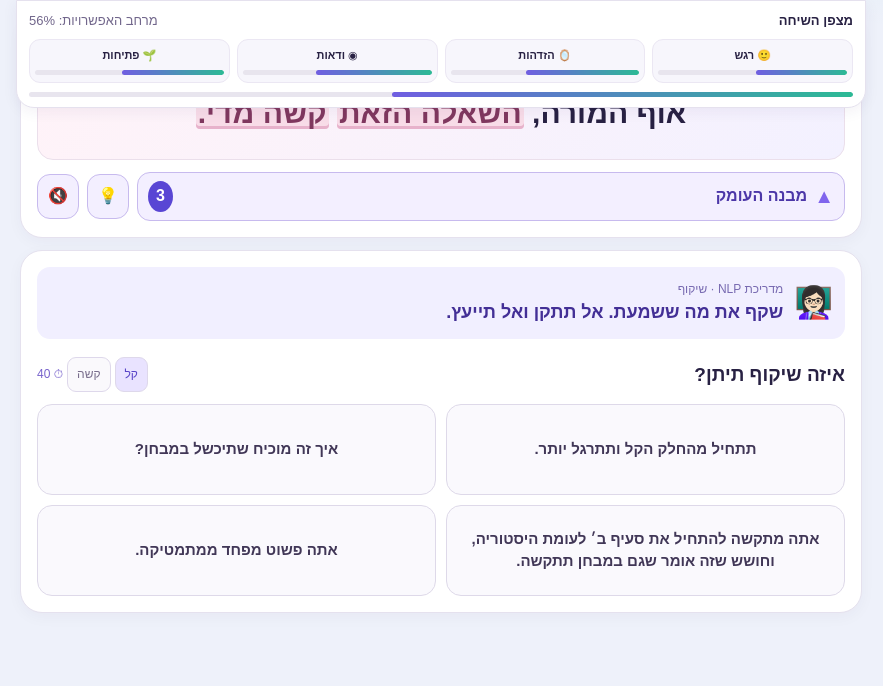
Test: GuidedMetaGym › records one completed session and offers onward links on finish
Earlier steps of the test are not shown.
Later steps or results of the test are not shown.
(page scrolled)
Step 1. Click the button "אתה מתקשה להתחיל את סעיף ב׳ לעומת היסטוריה" → (646, 550), box [446, 505, 845, 596]
(page scrolled)
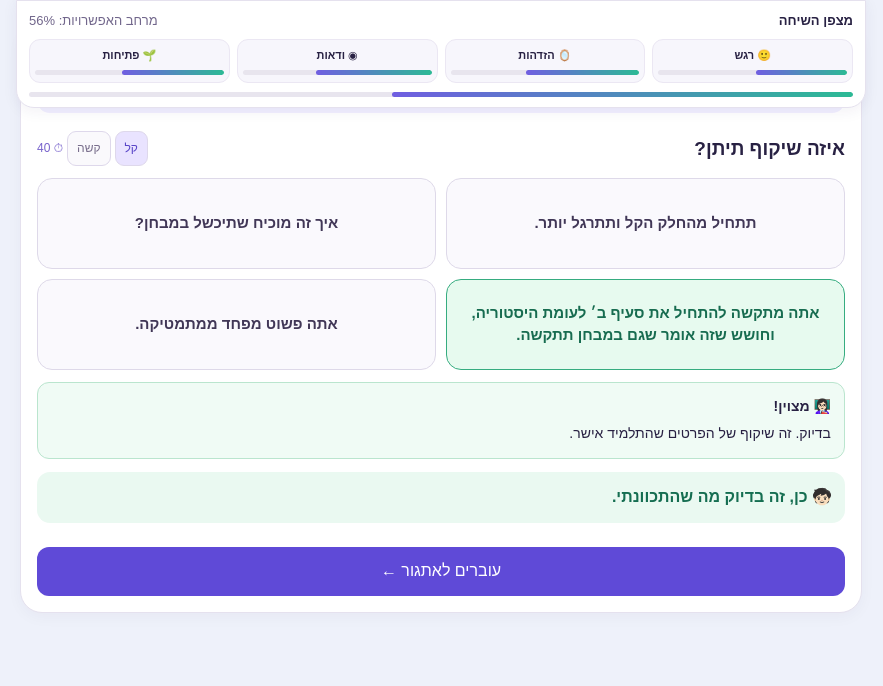
Step 2. Click the button "עוברים לאתגור ←" → (441, 571), box [37, 547, 845, 596]
(page scrolled)
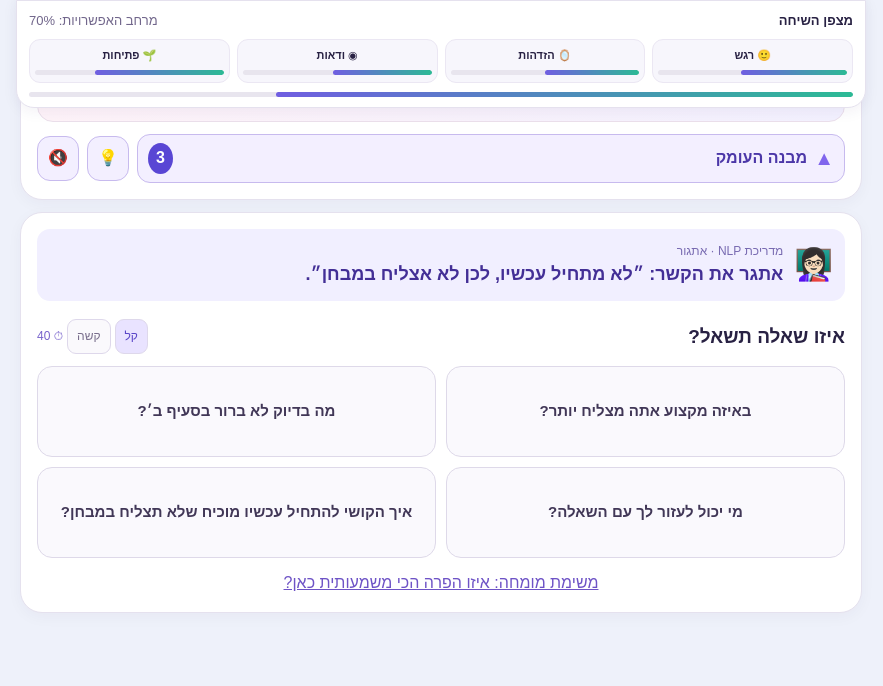
Step 3. Click the button "איך הקושי להתחיל עכשיו מוכיח שלא תצליח במבחן?" → (236, 512), box [37, 467, 436, 558]
(page scrolled)
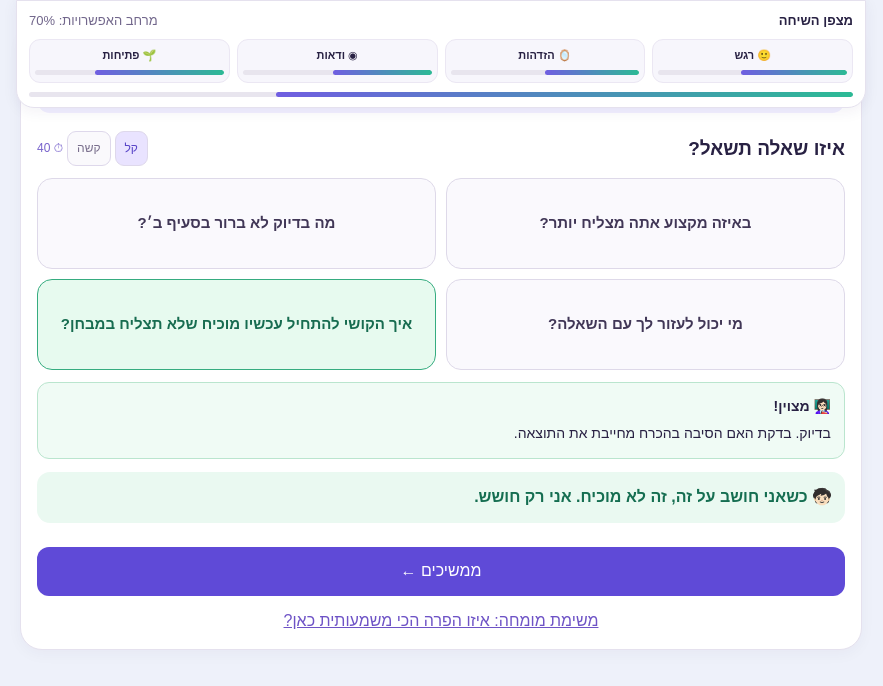
Step 4. Click the button "ממשיכים ←" → (441, 571), box [37, 547, 845, 596]
(page scrolled)
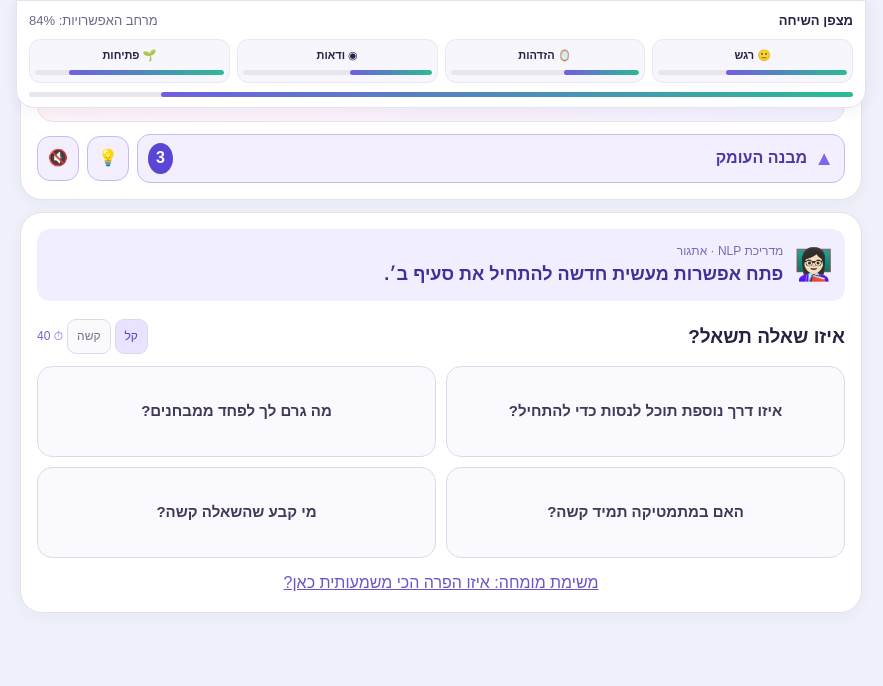
Step 5. Click the button "איזו דרך נוספת תוכל לנסות כדי להתחיל?" → (646, 411), box [446, 366, 845, 457]
(page scrolled)
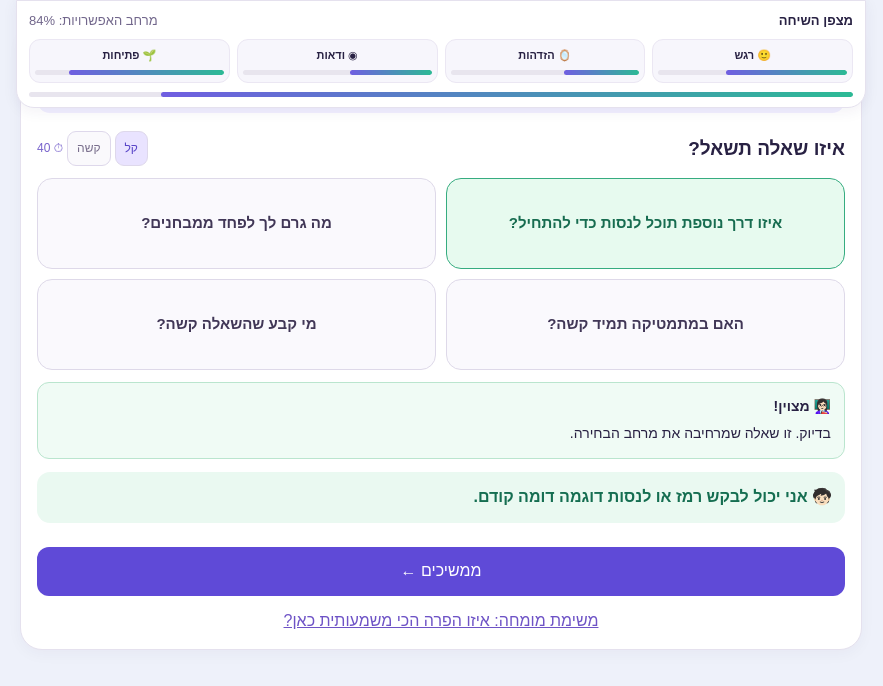
Step 6. Click the button "ממשיכים ←" → (441, 571), box [37, 547, 845, 596]
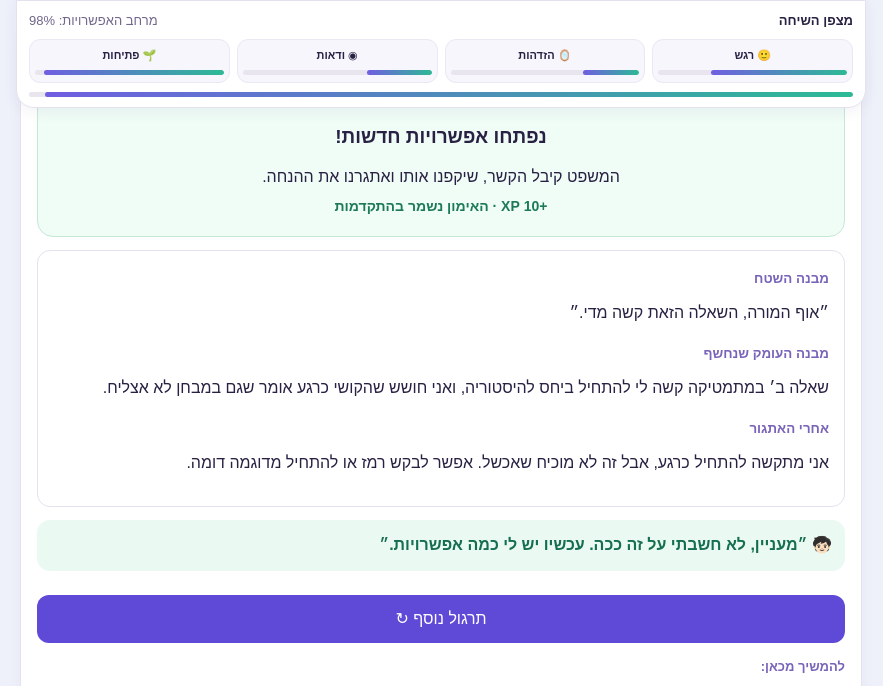
Expected: the heading "נפתחו אפשרויות חדשות!" is shown, [335, 126, 547, 147]
